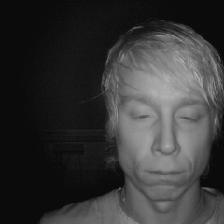sad: (91, 19, 224, 203)
